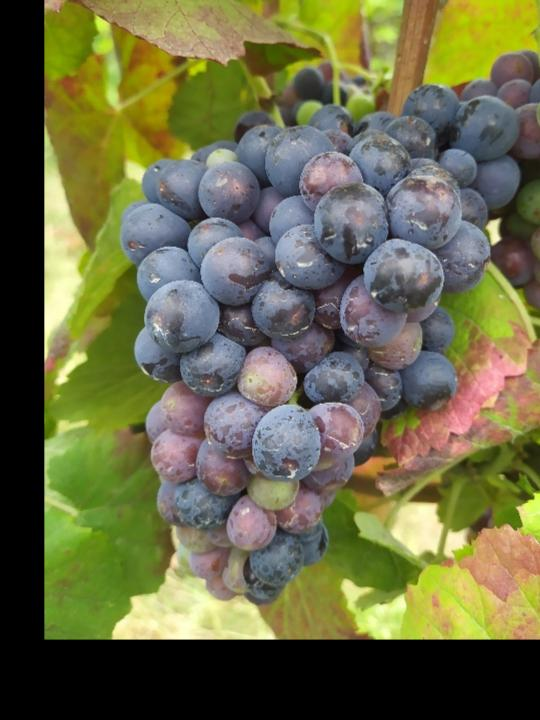grape: (118, 86, 523, 606)
